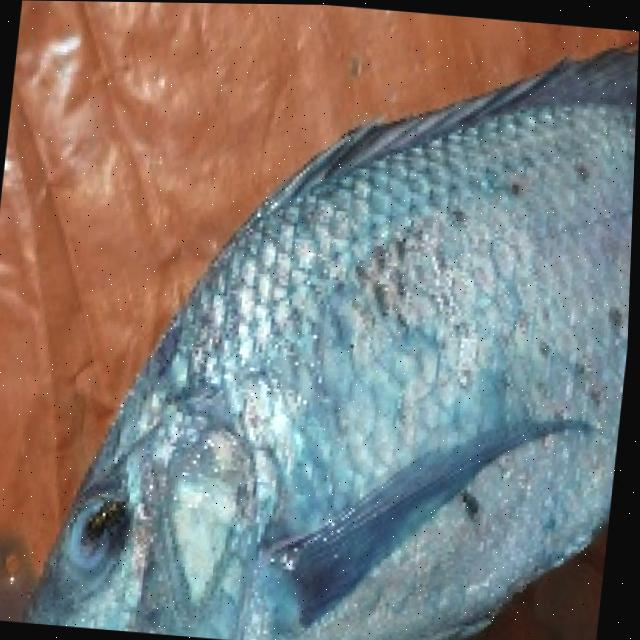Non-Fresh: (228, 157, 606, 640), (58, 484, 165, 588)
